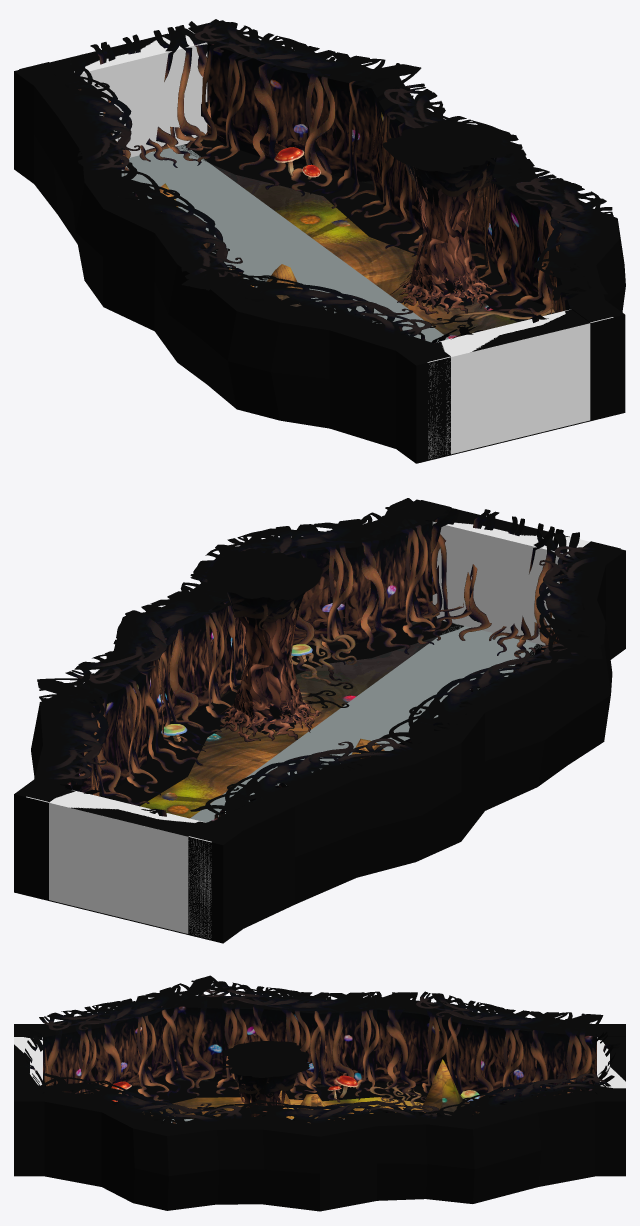
Rendered from Dungeon_021_Road_002.fbx.
The picture shows the model from 3 angles, top to bottom: view 1: azimuth 30°, elevation 25°; view 2: azimuth 150°, elevation 25°; view 3: azimuth 270°, elevation 25°; orthographic projection. The views are drawn at different scales.
Visible parts, largest first — view 1: Dan1, Dungeon_021_Tsuta_002, Dungeon_021_Tsuta_001, DoorWay_NavMask (1), Quad_Nav_SP, DoorWay_NavMask (×2), Dan2, Dungeon_021_Object_011, Dan1_shadow, Dungeon_021_Object_010, un_021_Door_002_Object1, un_021_Door_002 (×2) (+1 smaller); view 2: Dan1, Dungeon_021_Tsuta_002, DoorWay_NavMask (1), Dungeon_021_Tsuta_001, Quad_Nav_SP, DoorWay_NavMask (×2), Dan2, Dungeon_021_Object_011, Dungeon_021_Object_010, Dan1_shadow, un_021_Door_002_Object1, un_021_Door_002 (×2) (+1 smaller); view 3: Dan1, Dungeon_021_Tsuta_002, Dungeon_021_Tsuta_001, Dungeon_021_Object_010, Dan1_shadow, un_021_Door_002 (×2), Dan2, Dungeon_011_Object_011, DoorWay_NavMask (×2), un_021_Door_002_Object1 (×2), Dungeon_021_Tsuta_003, Dungeon_021_Object_011.
Part boxes in pixels (x1,y1,x2,y2): Dan1: (14, 20, 625, 463); Dungeon_021_Tsuta_002: (29, 19, 614, 339); Dungeon_021_Tsuta_001: (54, 38, 590, 340); DoorWay_NavMask (1): (427, 317, 613, 458); Quad_Nav_SP: (121, 144, 448, 342); DoorWay_NavMask (×2): (74, 29, 570, 356); Dan2: (210, 163, 516, 338); Dungeon_021_Object_011: (390, 165, 499, 314); Dan1_shadow: (177, 140, 555, 322); Dungeon_021_Object_010: (382, 120, 506, 197); un_021_Door_002_Object1: (69, 21, 223, 170); un_021_Door_002 (×2): (19, 21, 619, 455); Dan1: (14, 499, 625, 943); Dungeon_021_Tsuta_002: (37, 498, 605, 821); DoorWay_NavMask (1): (26, 794, 211, 938); Dungeon_021_Tsuta_001: (56, 506, 589, 818); Quad_Nav_SP: (190, 624, 542, 822); DoorWay_NavMask (×2): (50, 522, 586, 822); Dan2: (140, 637, 508, 818); Dungeon_021_Object_011: (220, 597, 321, 742); Dungeon_021_Object_010: (206, 548, 322, 629); Dan1_shadow: (100, 619, 544, 806); un_021_Door_002_Object1: (411, 508, 579, 658); un_021_Door_002 (×2): (19, 500, 620, 934); Dan1: (14, 995, 625, 1211); Dungeon_021_Tsuta_002: (33, 975, 610, 1127); Dungeon_021_Tsuta_001: (44, 994, 591, 1123); Dungeon_021_Object_010: (220, 1041, 312, 1099); Dan1_shadow: (118, 1080, 509, 1112); un_021_Door_002 (×2): (14, 1025, 625, 1099); Dan2: (142, 1097, 479, 1118); Dungeon_011_Object_011: (422, 1059, 465, 1115); DoorWay_NavMask (×2): (14, 1037, 625, 1088); un_021_Door_002_Object1 (×2): (19, 1028, 619, 1085); Dungeon_021_Tsuta_003: (369, 1081, 430, 1110); Dungeon_021_Object_011: (234, 1074, 285, 1116).
Size of what is drawn, in the model's own units: 9.14 by 3.03 by 15.
